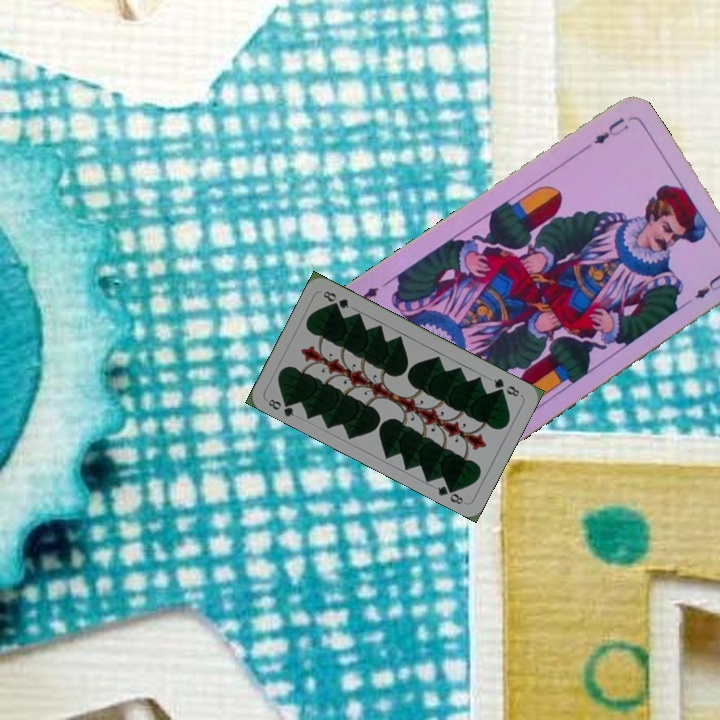EU: (589, 113, 632, 147)
G8: (490, 374, 524, 399), (264, 395, 297, 420)
